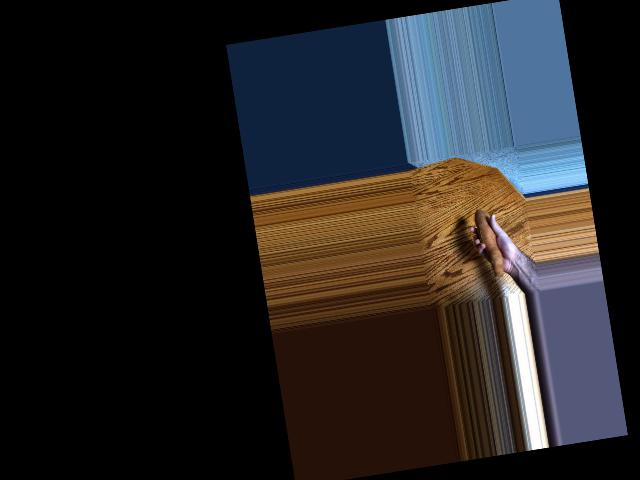sweet_potato: (471, 204, 512, 286)
